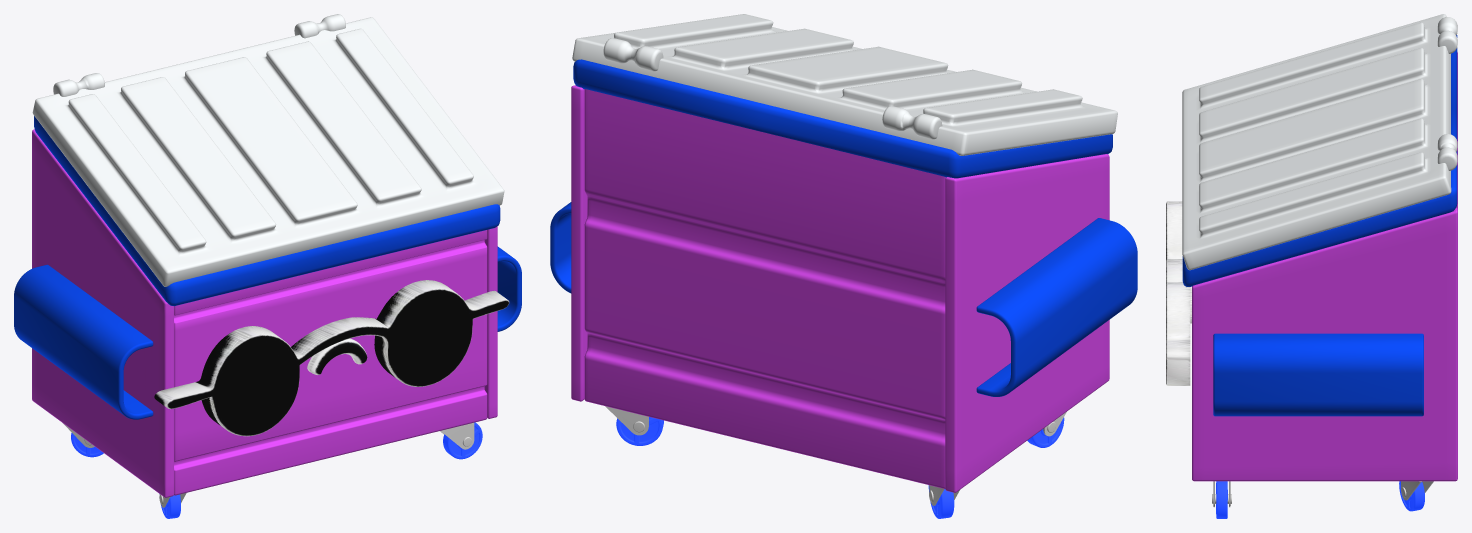
3 views of the same model, side by side, from view 1: azimuth 30°, elevation 25°; view 2: azimuth 150°, elevation 25°; view 3: azimuth 270°, elevation 25° (orthographic). The views are drawn at different scales.
Visible parts, largest first — view 1: Dumpster Geometry, Wheel Holder; view 2: Dumpster Geometry, Wheel Holder; view 3: Dumpster Geometry, Wheel Holder.
Boxes of the visible parts, left/top/right/bottom form: Dumpster Geometry: left=14, top=14, right=521, bottom=518; Wheel Holder: left=63, top=422, right=474, bottom=507; Dumpster Geometry: left=550, top=14, right=1137, bottom=518; Wheel Holder: left=605, top=406, right=1066, bottom=505; Dumpster Geometry: left=1166, top=14, right=1457, bottom=518; Wheel Holder: left=1212, top=481, right=1433, bottom=507.
Size of the model in its own units: 2.3 by 1.97 by 1.45.
7 materials, 2 textured.
